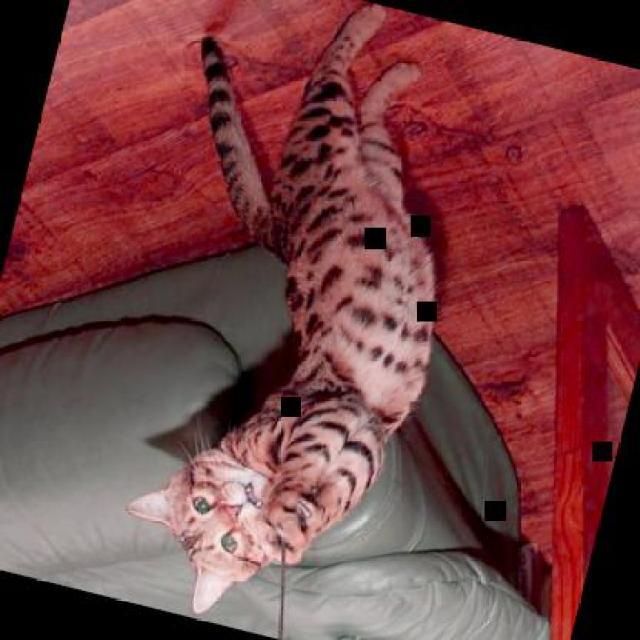cat: (63, 0, 512, 638)
